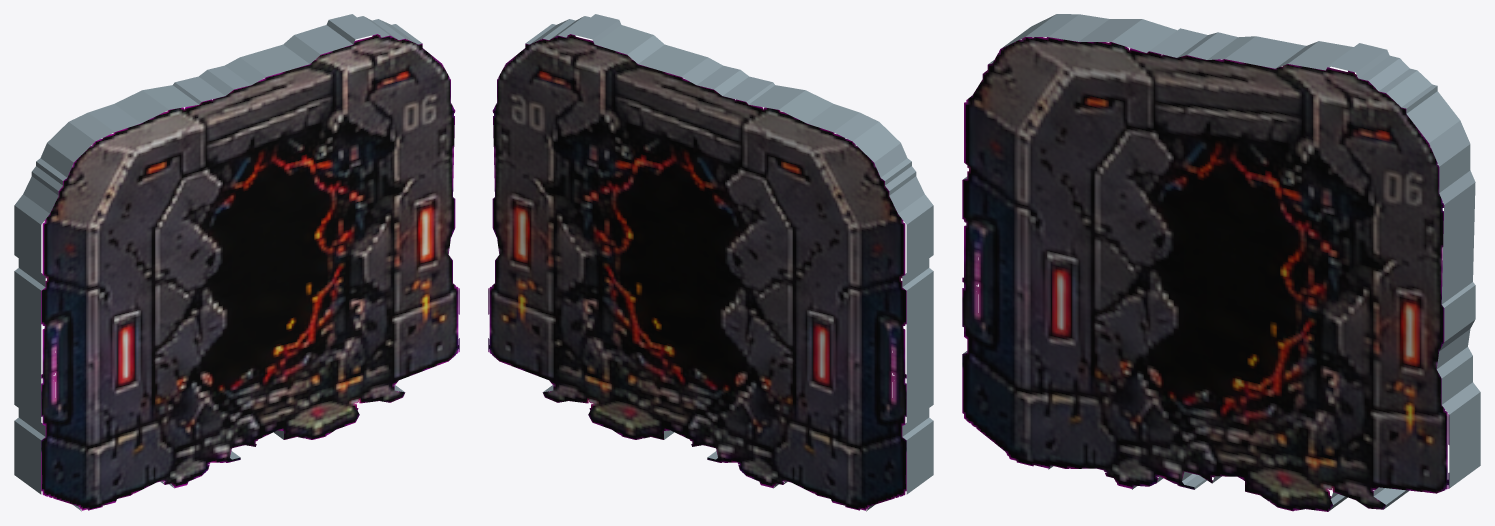
The model's file is chrome-obj-door-open-alt.glb.
3 renders of one model, left to right at view 1: azimuth 30°, elevation 25°; view 2: azimuth 150°, elevation 25°; view 3: azimuth 330°, elevation 25°, orthographic. The views are drawn at different scales.
Visible parts, largest first — view 1: painted-faces, side-shell; view 2: painted-faces, side-shell; view 3: painted-faces, side-shell.
Part boxes in pixels (x1,y1,x2,y2): painted-faces: (41,34,459,510); side-shell: (14,14,422,511); painted-faces: (488,34,906,510); side-shell: (525,14,933,511); painted-faces: (962,37,1449,511); side-shell: (963,14,1480,511).
Size of the model in its own units: 1.08 by 1 by 0.12.
Materials: 2 (1 with a texture image).
